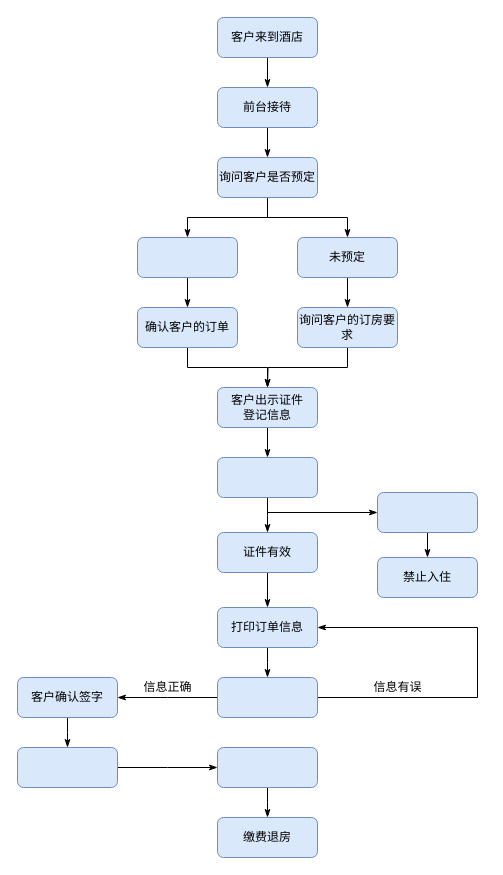
This 503x875 diagram has some shape labels left out. Here are the shapes that lost their labels. From the top down, the centre of each, then its label:
point (187, 257): 已预定
point (267, 477): 确认证件的有效性
point (427, 512): 证件无效
point (267, 697): 客户核对信息
point (67, 767): 引导客户进房
point (267, 767): 客户入住
